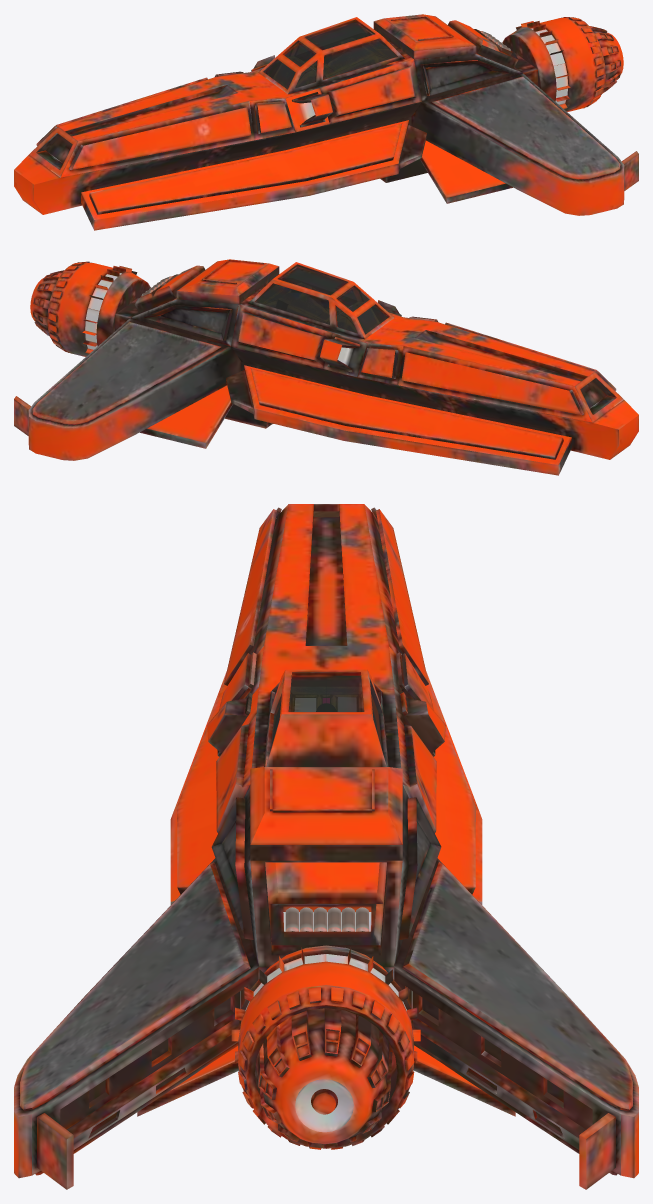
The model's file is spaceship-transformed.glb.
3 views of the same model, one above another, from view 1: azimuth 30°, elevation 25°; view 2: azimuth 150°, elevation 25°; view 3: azimuth 270°, elevation 25° (orthographic). The views are drawn at different scales.
Parts seen in each view (by area): view 1: Cube.001, Cube.001_RPanel.003, Cylinder.002, Cube.001_RPanel.003_RExtr, Cube.005, Cube.003, Cylinder.003, Cube.001_RPanel.003_RExtr.001, Cube.002; view 2: Cube.001, Cube.001_RPanel.001, Cylinder.002, Cube.001_RPanel.003_RExtr.001, Cube.005, Cube.003, Cylinder.003, Cube.001_RPanel.003_RExtr, Cube.002; view 3: Cube.001, Cylinder.003, Cylinder.002, Cube.001_RPanel.003, Cube.001_RPanel.001, Cube.003, Cube.001_RPanel.003_RExtr, Cube.001_RPanel.003_RExtr.001, Cylinder.004, Cube.005.
Part boxes in pixels (x1,y1,x2,y2): Cube.001: (14,14,638,230); Cube.001_RPanel.003: (61,54,522,177); Cylinder.002: (502,17,605,111); Cube.001_RPanel.003_RExtr: (69,92,325,170); Cube.005: (274,38,395,87); Cube.003: (448,20,518,67); Cylinder.003: (589,26,623,93); Cube.001_RPanel.003_RExtr.001: (36,63,268,145); Cube.002: (380,159,427,182); Cube.001: (14,259,638,475); Cube.001_RPanel.001: (130,299,591,422); Cylinder.002: (47,261,150,356); Cube.001_RPanel.003_RExtr.001: (327,337,583,415); Cube.005: (257,283,379,332); Cube.003: (134,265,205,312); Cylinder.003: (30,270,63,336); Cube.001_RPanel.003_RExtr: (384,308,616,390); Cube.002: (225,404,273,428); Cube.001: (14,504,638,1189); Cylinder.003: (257,1008,392,1148); Cylinder.002: (231,945,420,1149); Cube.001_RPanel.003: (207,504,288,965); Cube.001_RPanel.001: (364,504,445,965); Cube.003: (265,862,386,955); Cube.001_RPanel.003_RExtr: (217,507,281,756); Cube.001_RPanel.003_RExtr.001: (371,507,435,756); Cylinder.004: (285,907,368,931); Cube.005: (273,687,376,739).
Size of the model in its own units: 18.93 by 5.01 by 9.24.
Materials: 2 (2 with a texture image).
